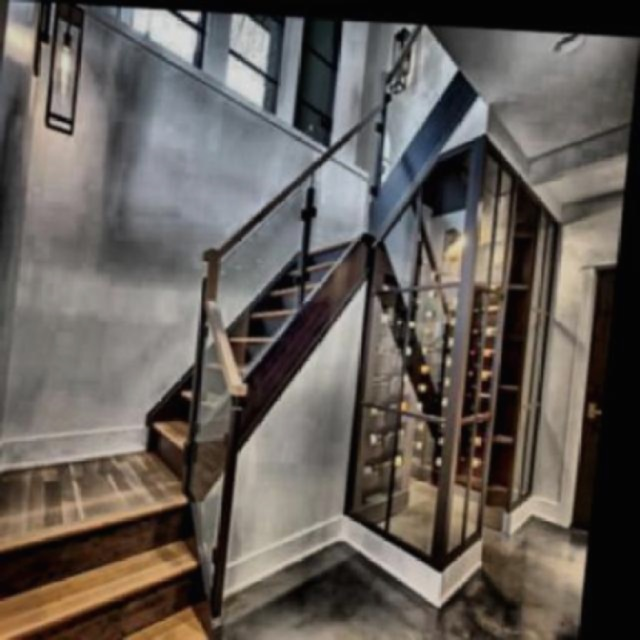stair: (110, 215, 367, 475), (0, 478, 242, 638)
